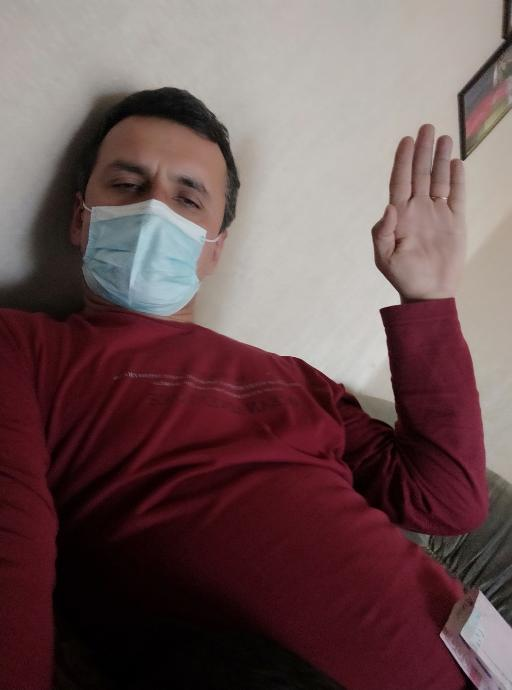stop: (368, 120, 475, 301)
